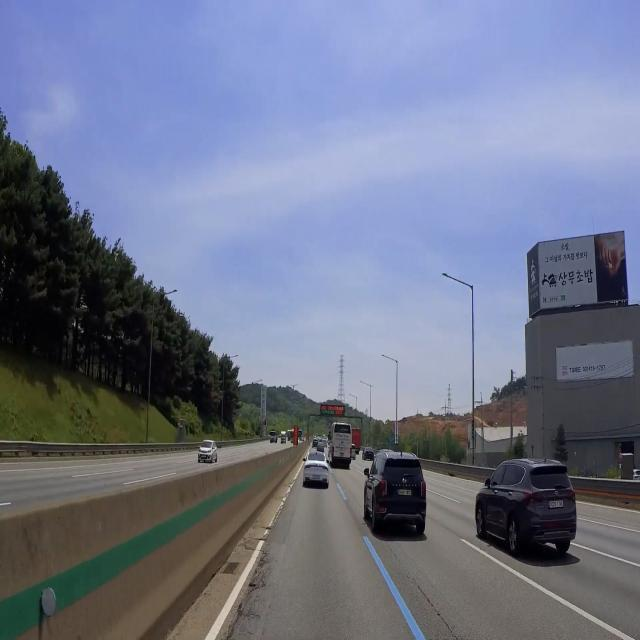car: (394, 482, 415, 507), (548, 497, 567, 513), (311, 474, 324, 483), (337, 450, 349, 459), (200, 454, 210, 461)
